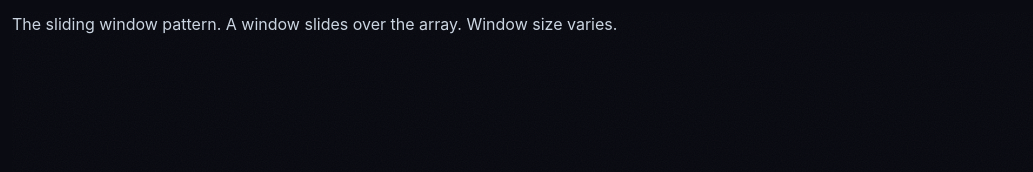
it: ArticleFind › opens on '/' and highlights matches with a count
Press /
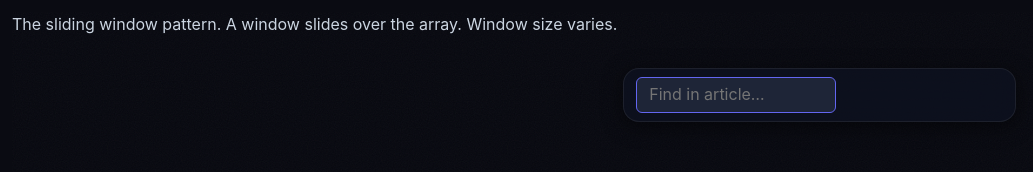
Type "window" into the field labelled "Find in article" at (736, 95), box [636,77,836,113]
Wait 200 ms
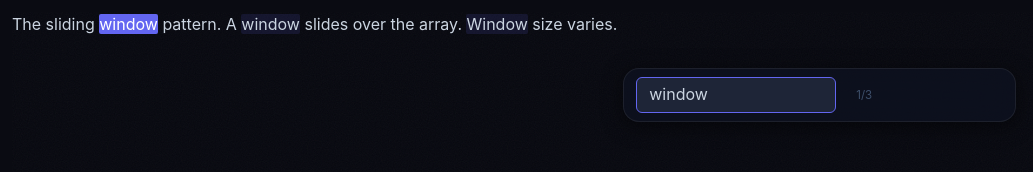
Expected: the number of elements with class "article-find-hit" is 3, [99,14,158,34]; [241,14,300,34]; [466,14,528,34]
Expected: the text "1/3" is shown, [856,88,872,102]
